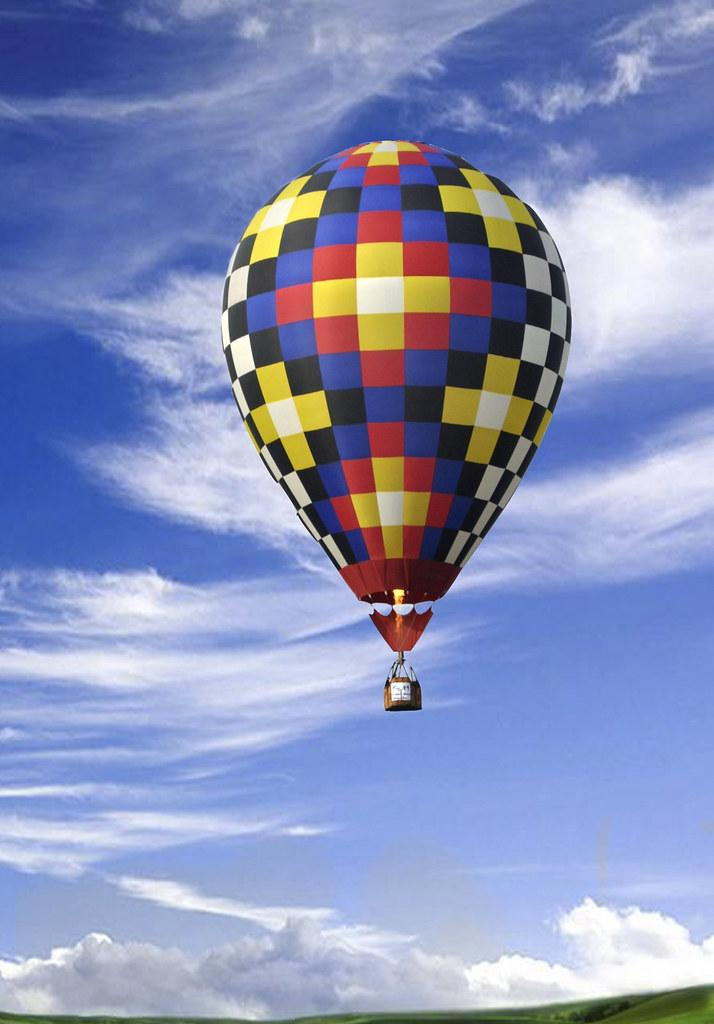balloon: (220, 138, 573, 712)
